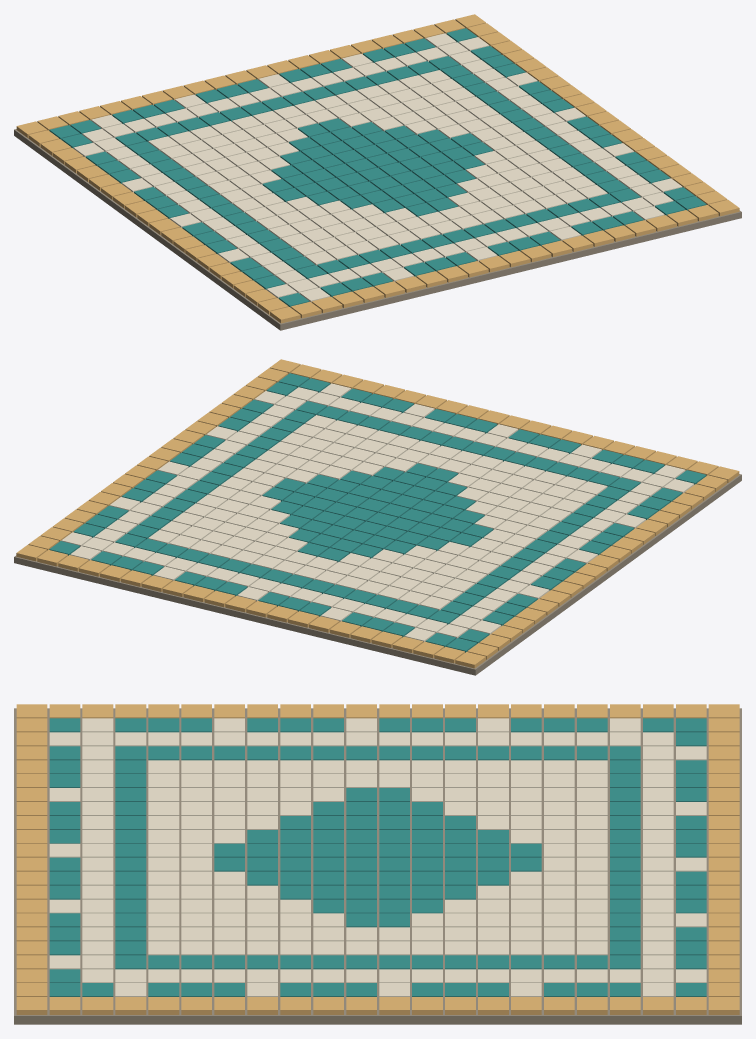
File: mosaic-pavement.glb
The picture shows the model from 3 angles, top to bottom: view 1: azimuth 30°, elevation 25°; view 2: azimuth 150°, elevation 25°; view 3: azimuth 270°, elevation 25°; orthographic projection. The views are drawn at different scales.
Visible parts, largest first — view 1: mosaic-pavement__marble, mosaic-pavement__teal, mosaic-pavement__ochre, mosaic-pavement__mortar; view 2: mosaic-pavement__marble, mosaic-pavement__teal, mosaic-pavement__ochre, mosaic-pavement__mortar; view 3: mosaic-pavement__marble, mosaic-pavement__teal, mosaic-pavement__ochre, mosaic-pavement__mortar.
Part boxes in pixels (x1,y1,x2,y2): mosaic-pavement__marble: (73, 33, 682, 302); mosaic-pavement__teal: (49, 28, 706, 307); mosaic-pavement__ochre: (16, 14, 739, 323); mosaic-pavement__mortar: (14, 129, 741, 330); mosaic-pavement__marble: (61, 383, 694, 642); mosaic-pavement__teal: (49, 373, 706, 652); mosaic-pavement__ochre: (16, 359, 739, 668); mosaic-pavement__mortar: (14, 474, 741, 675); mosaic-pavement__marble: (49, 718, 706, 996); mosaic-pavement__teal: (49, 718, 706, 996); mosaic-pavement__ochre: (16, 704, 739, 1014); mosaic-pavement__mortar: (14, 708, 741, 1024).
Size of the model in its own units: 2.84 by 0.058 by 2.84.
